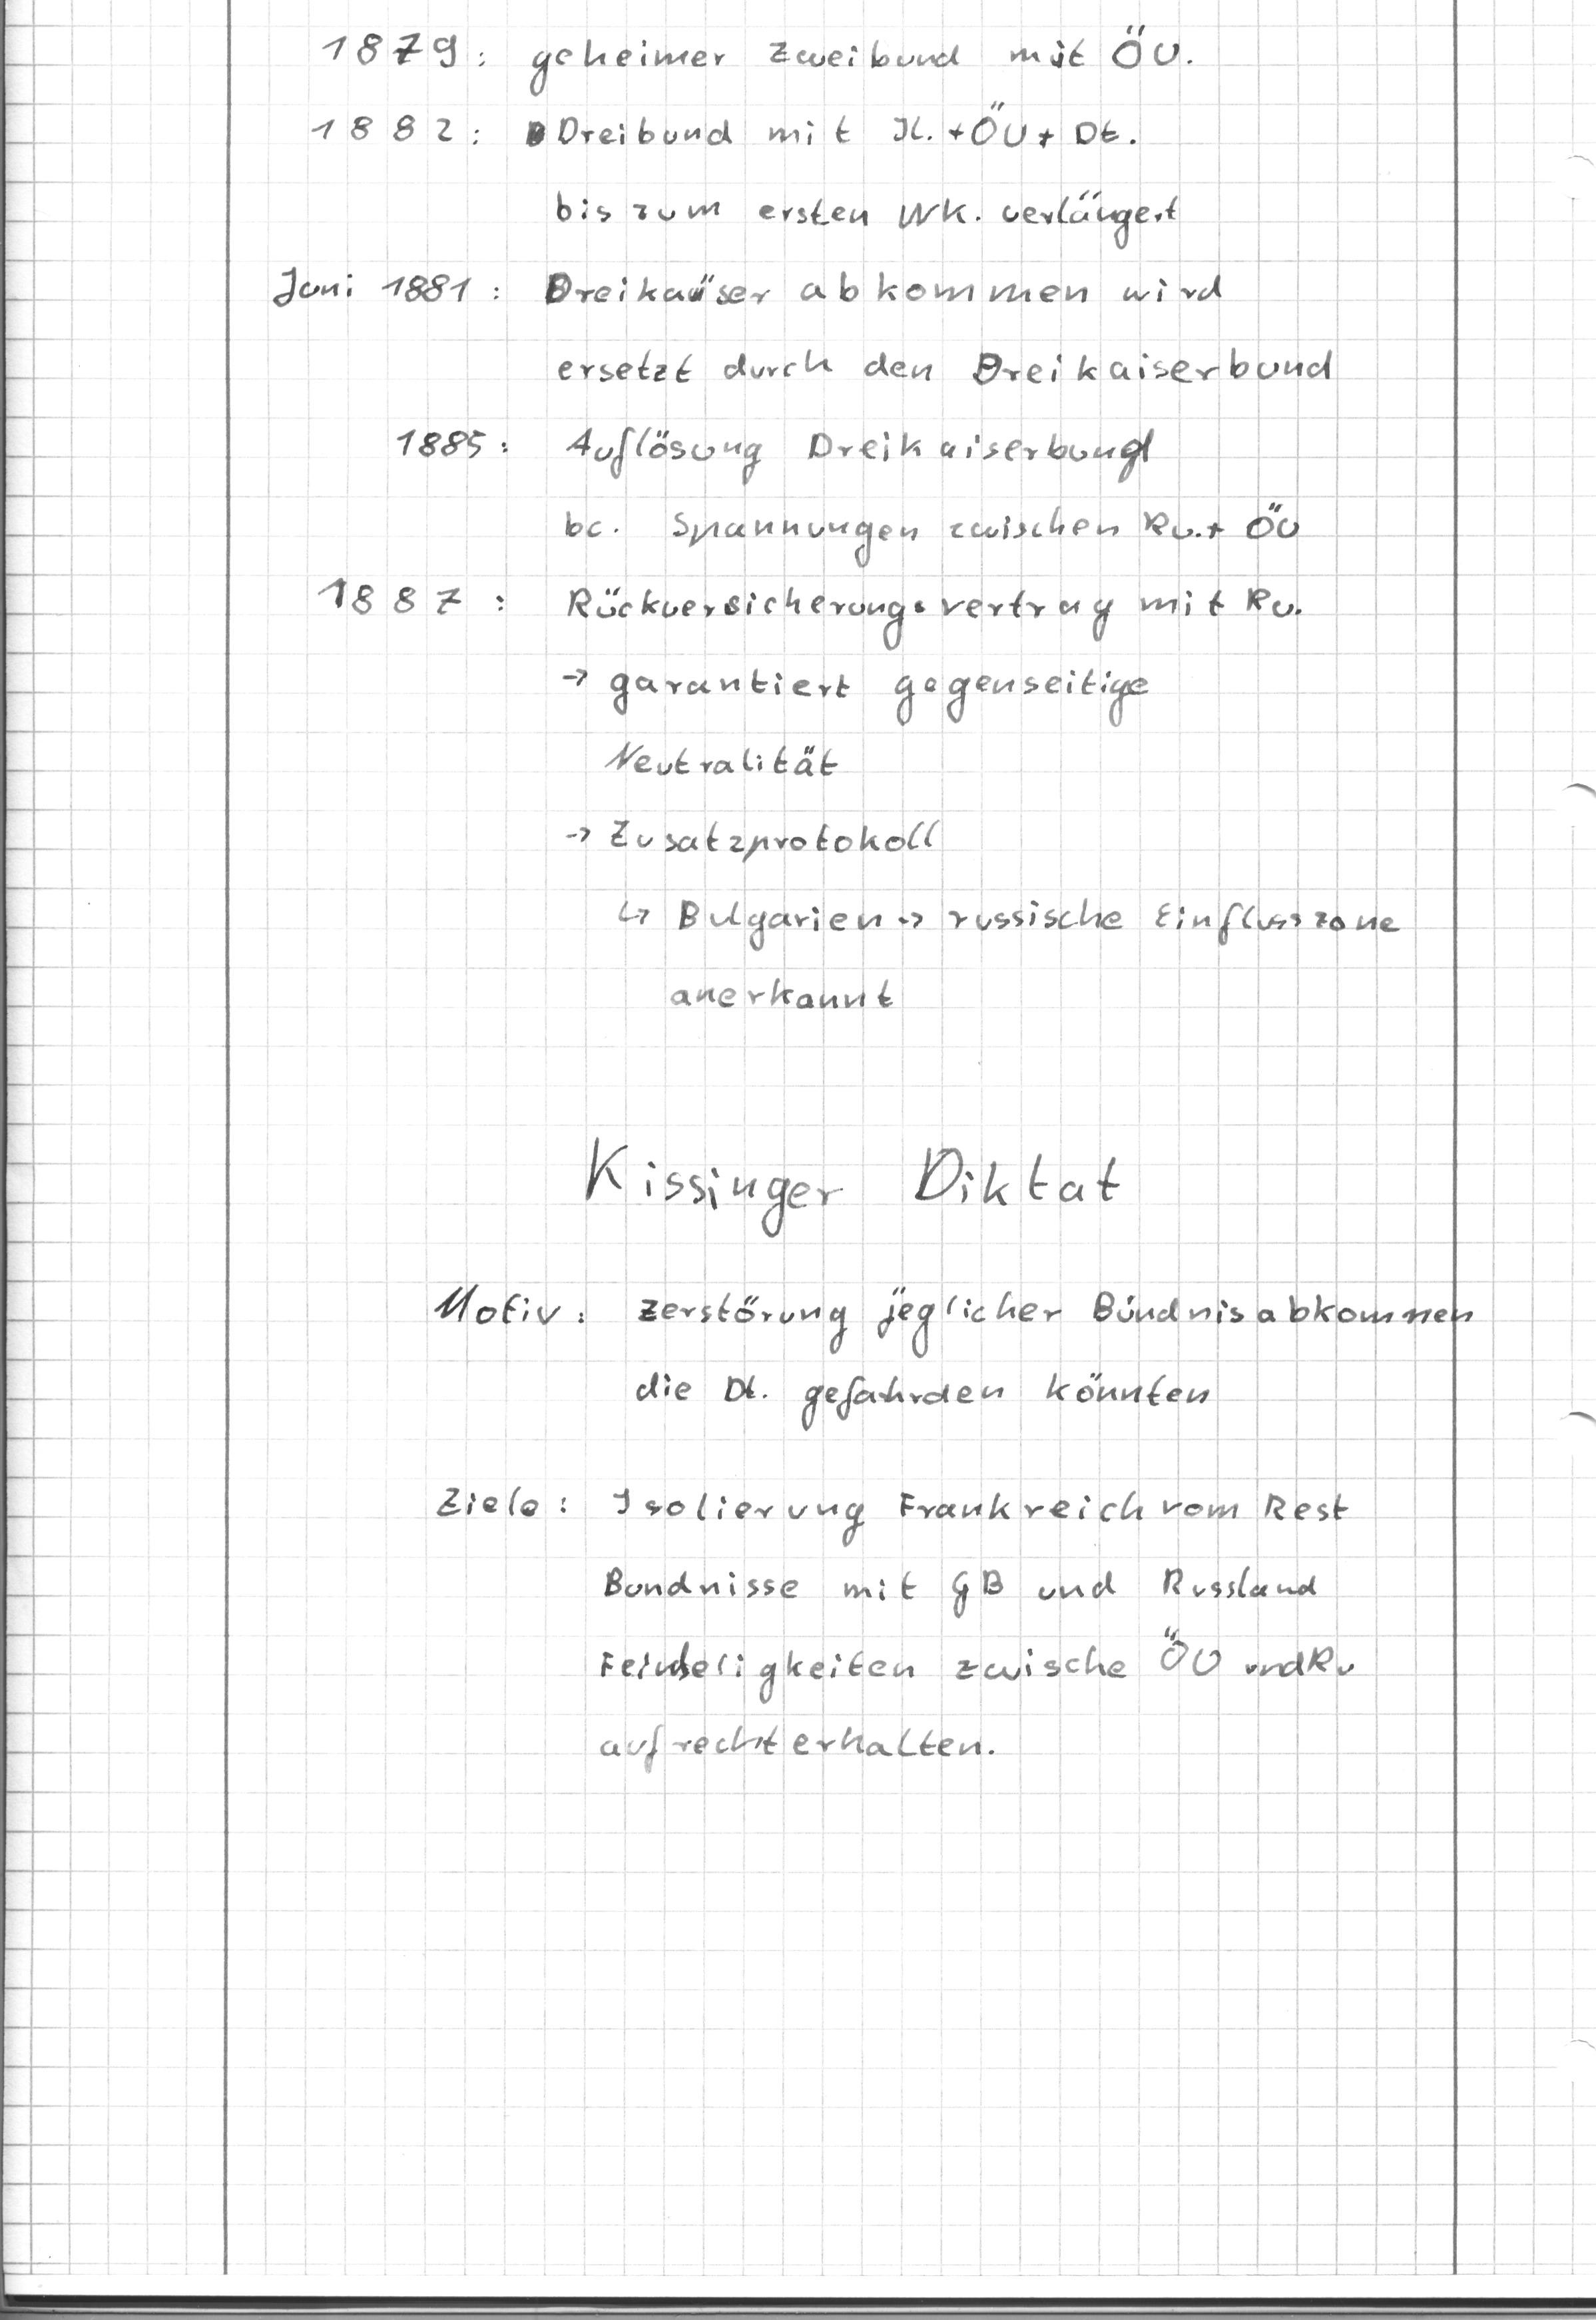word: (540, 260, 1338, 573), (587, 1479, 1380, 1784), (542, 577, 1310, 868), (418, 1269, 1479, 1446), (606, 883, 1404, 1027), (537, 117, 1174, 266), (564, 1125, 1138, 1249), (518, 17, 1195, 101), (300, 27, 501, 157), (260, 251, 516, 330), (288, 559, 524, 637), (424, 1472, 578, 1538), (384, 409, 524, 479)
